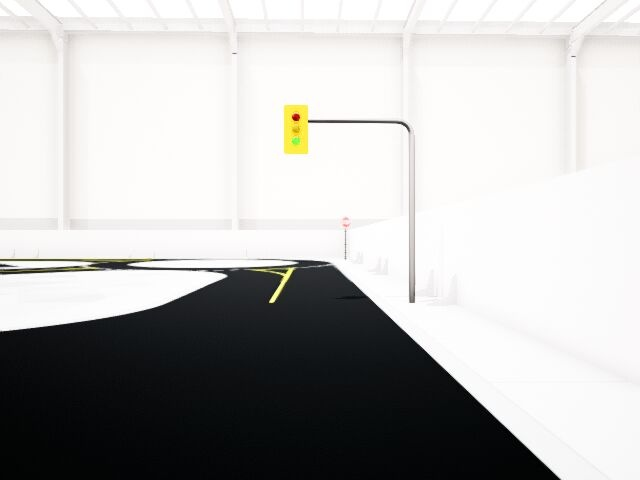green: (285, 106, 307, 152)
stopsign: (340, 216, 351, 229)
